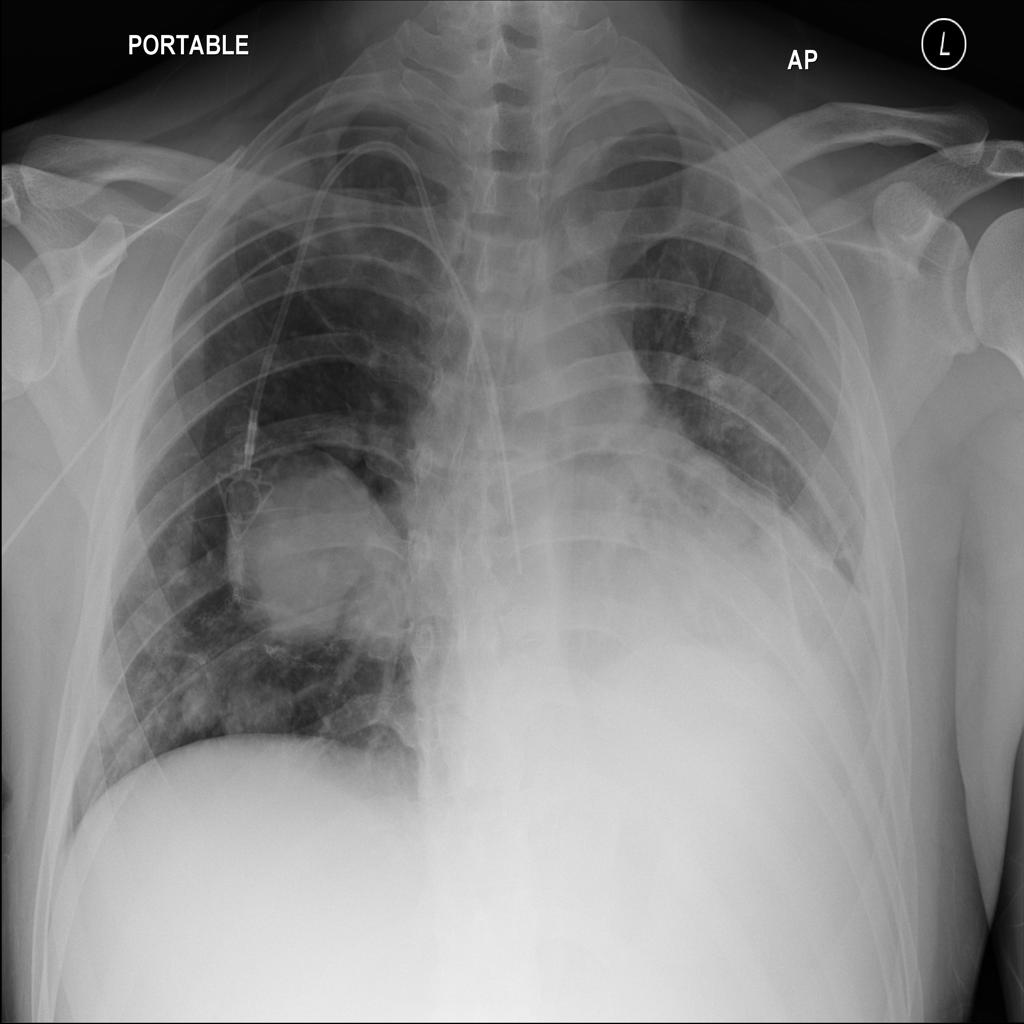nodule: (215, 448, 415, 669), (243, 145, 325, 223), (159, 668, 228, 744), (160, 305, 225, 378)
